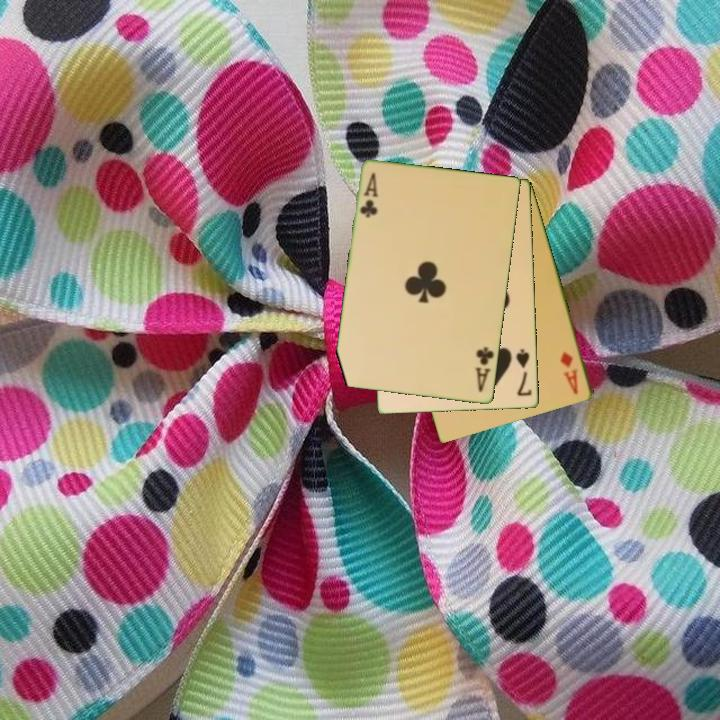7s: (513, 346, 534, 399)
Ac: (472, 344, 497, 395), (357, 170, 382, 221)
Ad: (557, 348, 581, 397)
